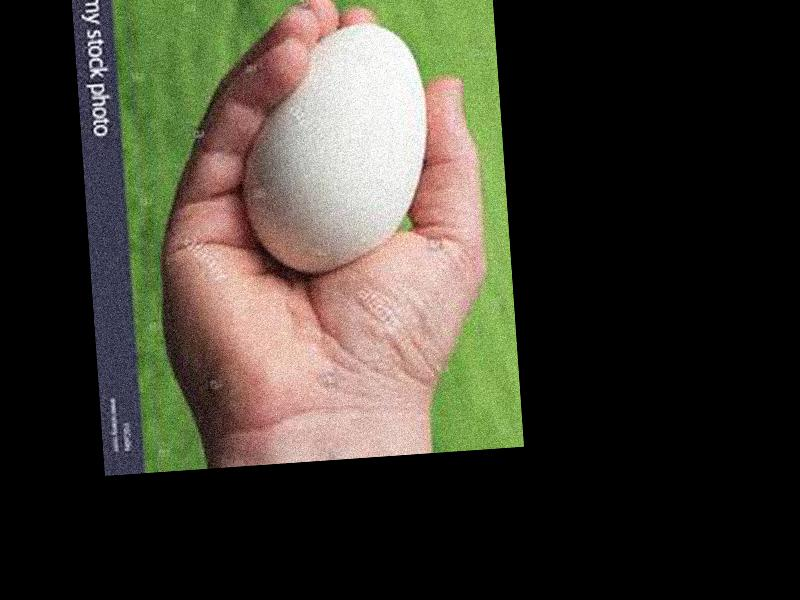Eggs: (231, 21, 438, 281)
